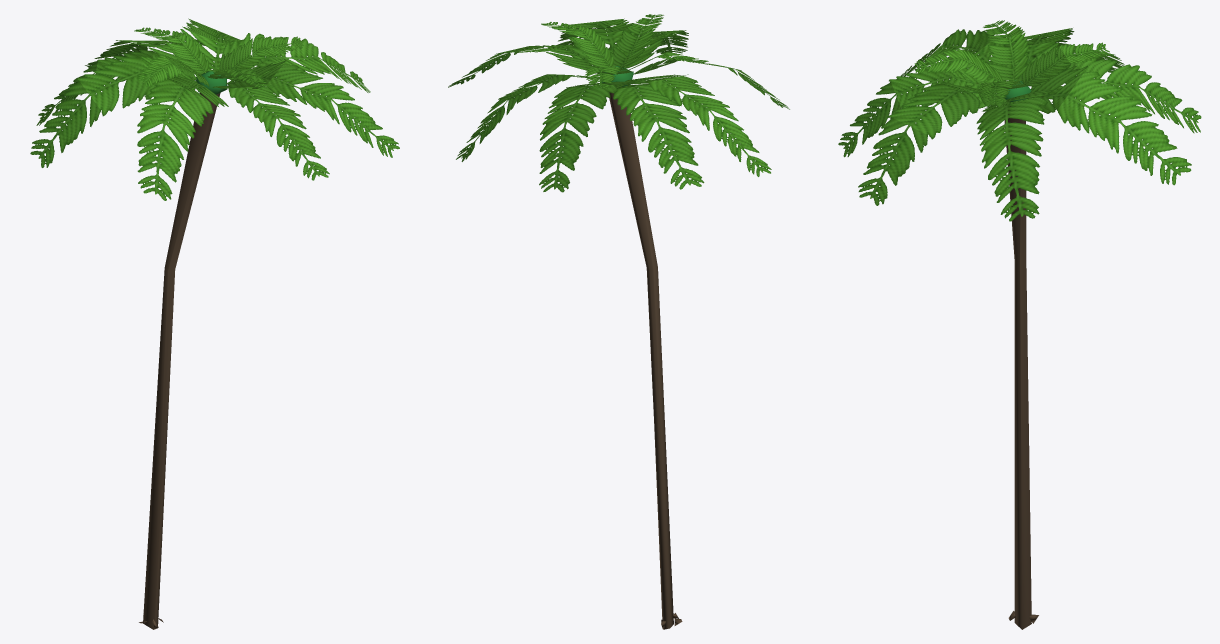
File: tree-vn-coconut-lod.glb
3 views of the same model, side by side, from view 1: azimuth 30°, elevation 25°; view 2: azimuth 150°, elevation 25°; view 3: azimuth 270°, elevation 25° (orthographic). The views are drawn at different scales.
Parts seen in each view (by area): view 1: tree-vn-coconut-lod; view 2: tree-vn-coconut-lod; view 3: tree-vn-coconut-lod.
Part boxes in pixels (x1=…): tree-vn-coconut-lod: x1=30, y1=18, x2=399, y2=629; tree-vn-coconut-lod: x1=448, y1=14, x2=789, y2=629; tree-vn-coconut-lod: x1=838, y1=20, x2=1201, y2=629.
Bounding box in the file's own units: 4.75 × 8 × 4.54.
Materials: 3 (1 with a texture image).
